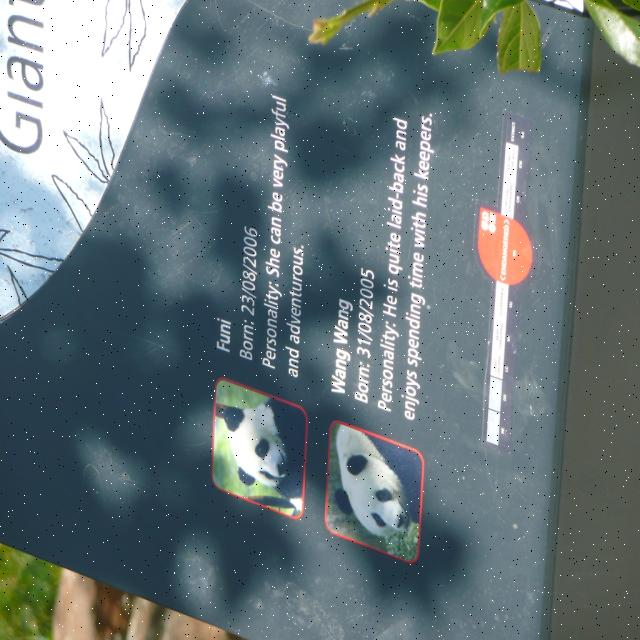panda: (334, 421, 416, 536), (220, 395, 306, 495)
